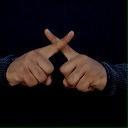hand: (5, 28, 75, 87), (43, 28, 107, 92)
